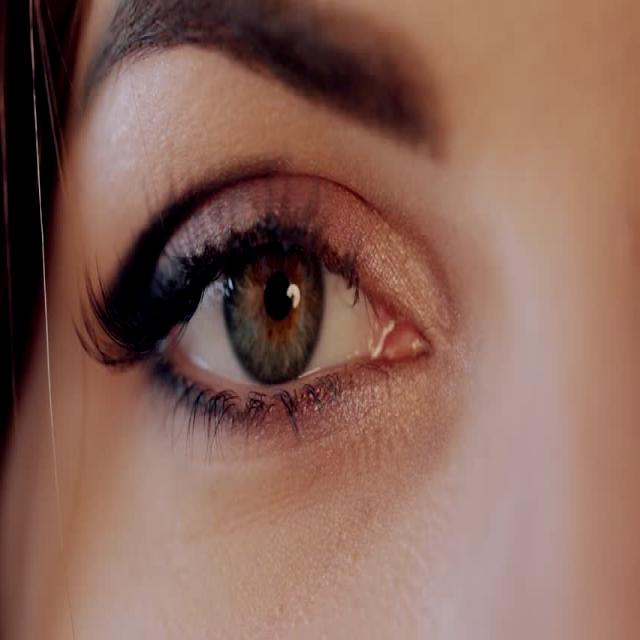Normal: (43, 160, 461, 434)
